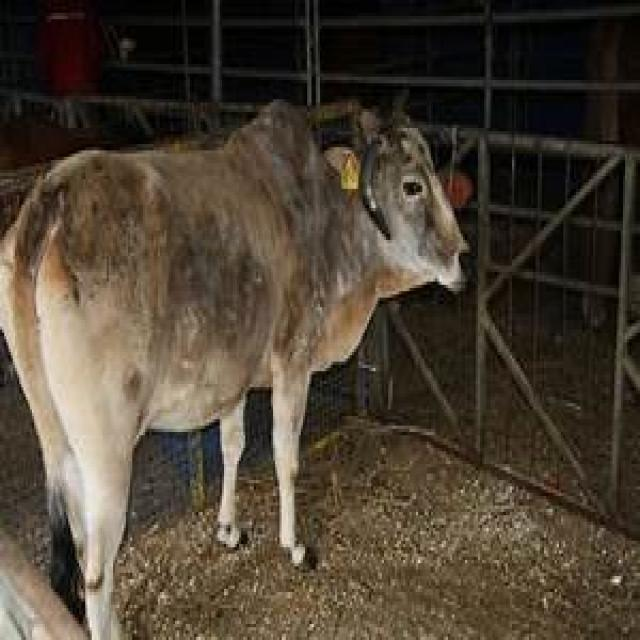cow: (0, 103, 465, 638)
